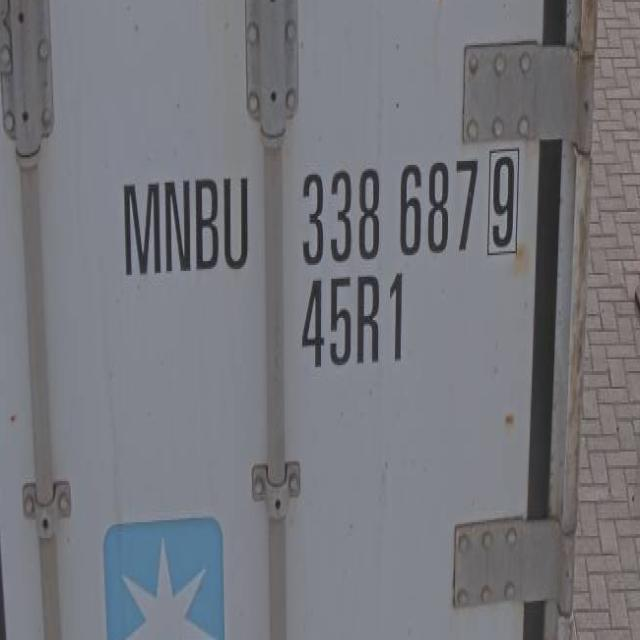dv: (485, 137, 522, 264)
owner: (116, 156, 254, 289)
serial: (295, 140, 479, 270)
size: (298, 273, 412, 380)
